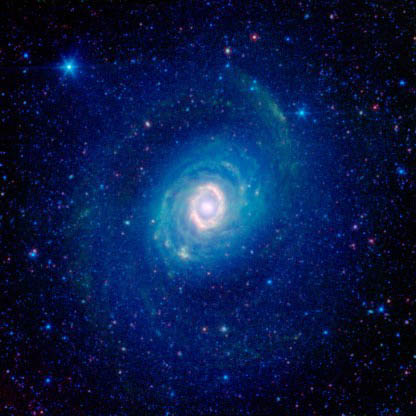Messier 94: (33, 42, 374, 401)
